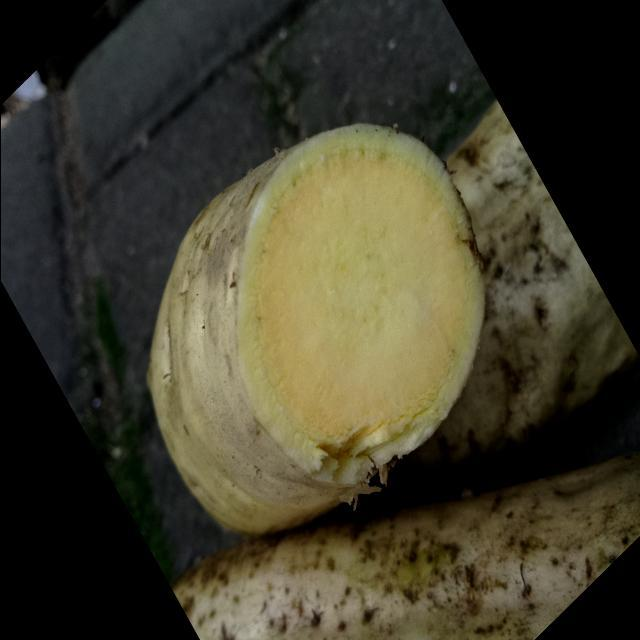Healthy Sweet Potato: (238, 125, 484, 485)
